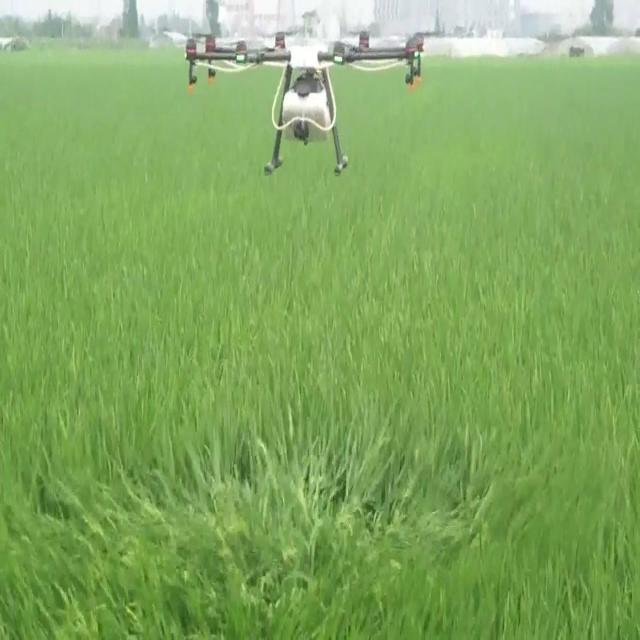UAV: (169, 28, 425, 178)
